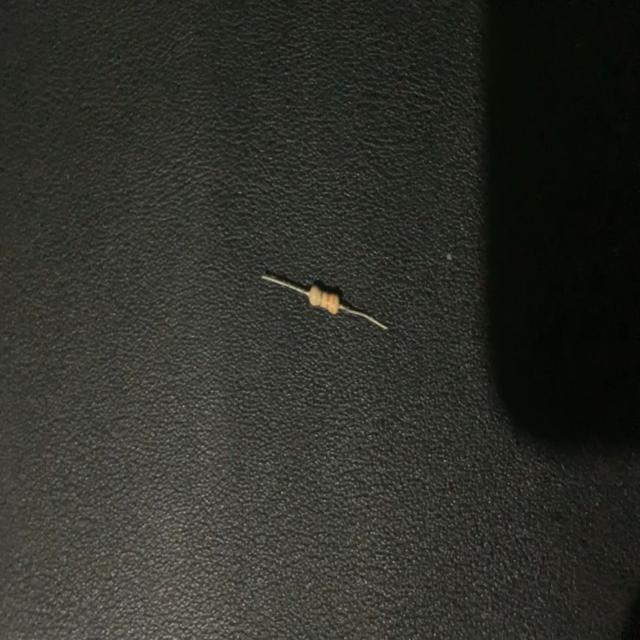resistor: (258, 261, 395, 348)
